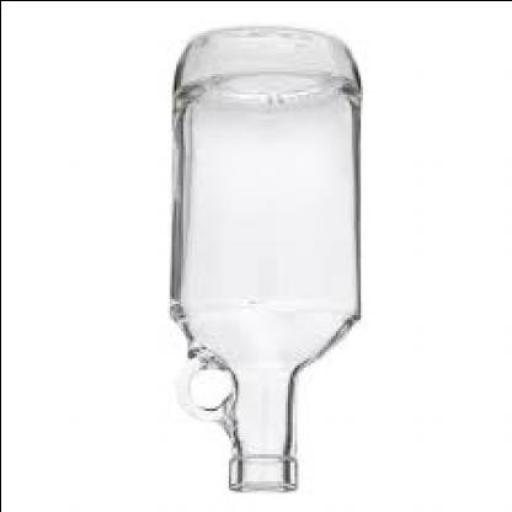glass: (168, 31, 362, 492)
